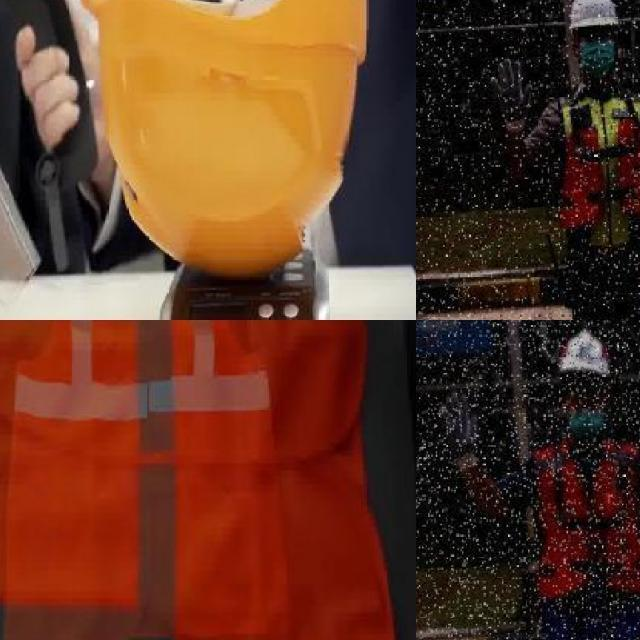apron: (438, 392, 480, 478), (489, 58, 534, 134)
